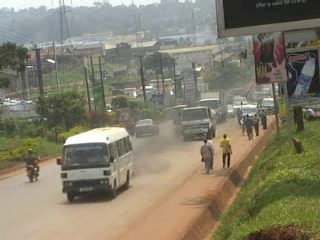Car: (130, 116, 160, 139), (223, 102, 236, 119), (231, 101, 248, 113)
Motorcycle: (20, 148, 44, 183), (125, 118, 135, 136)
